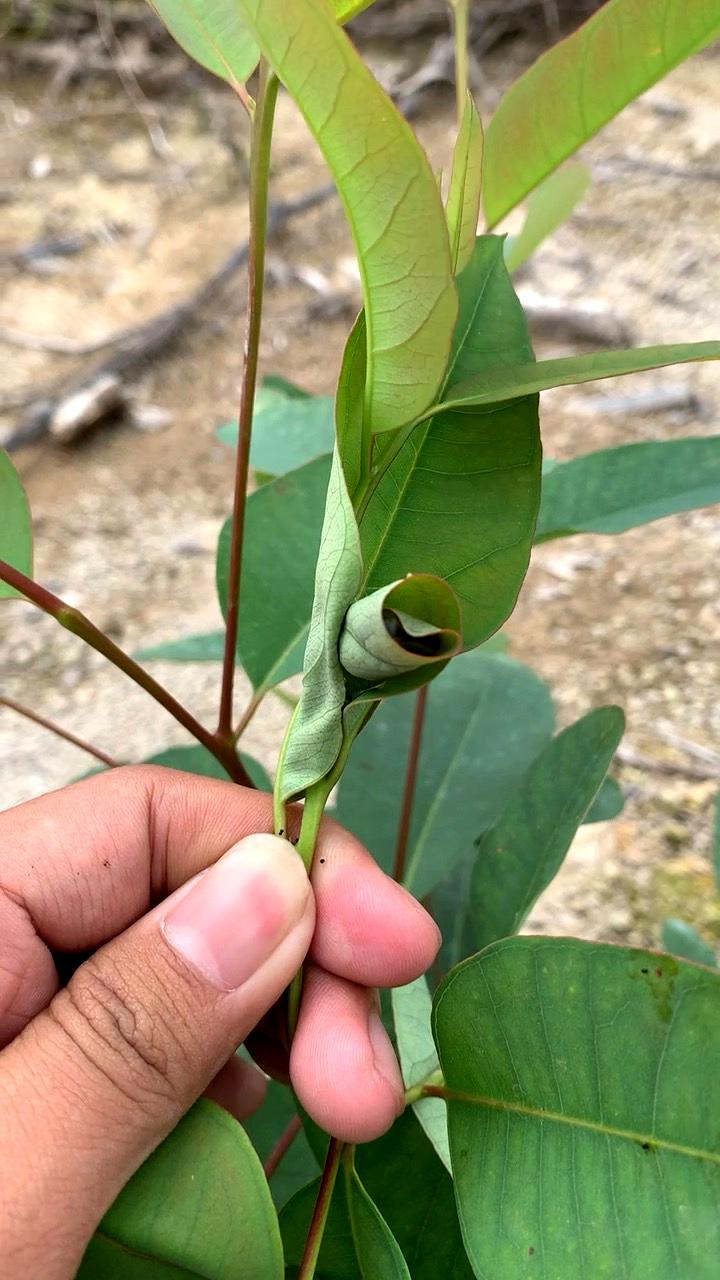Leaf Roller - Leaf: (229, 541, 516, 732)
